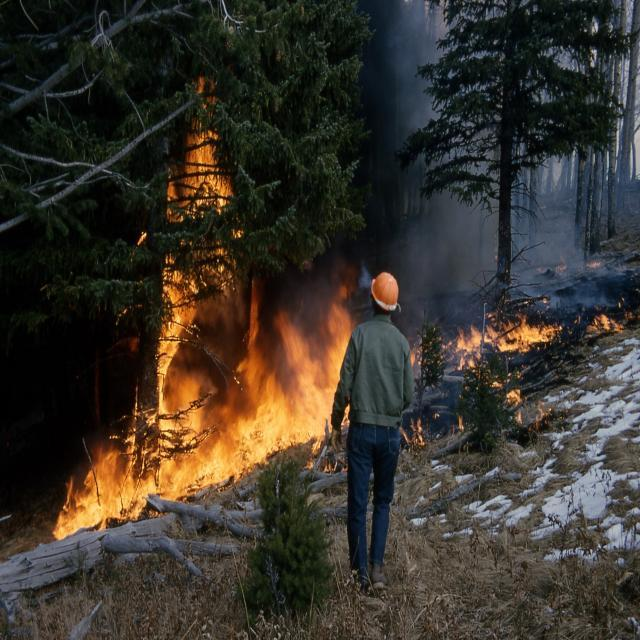Fire: (172, 112, 236, 488), (107, 219, 208, 453), (244, 281, 356, 471), (414, 320, 555, 443), (430, 276, 551, 391), (68, 416, 178, 536), (555, 296, 640, 342)
Smoke: (354, 8, 619, 258)
